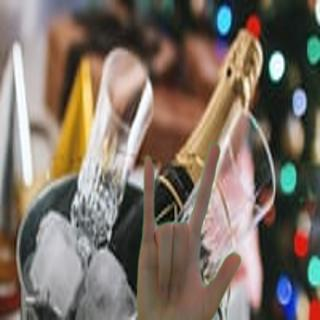ILY: (132, 141, 243, 320)
